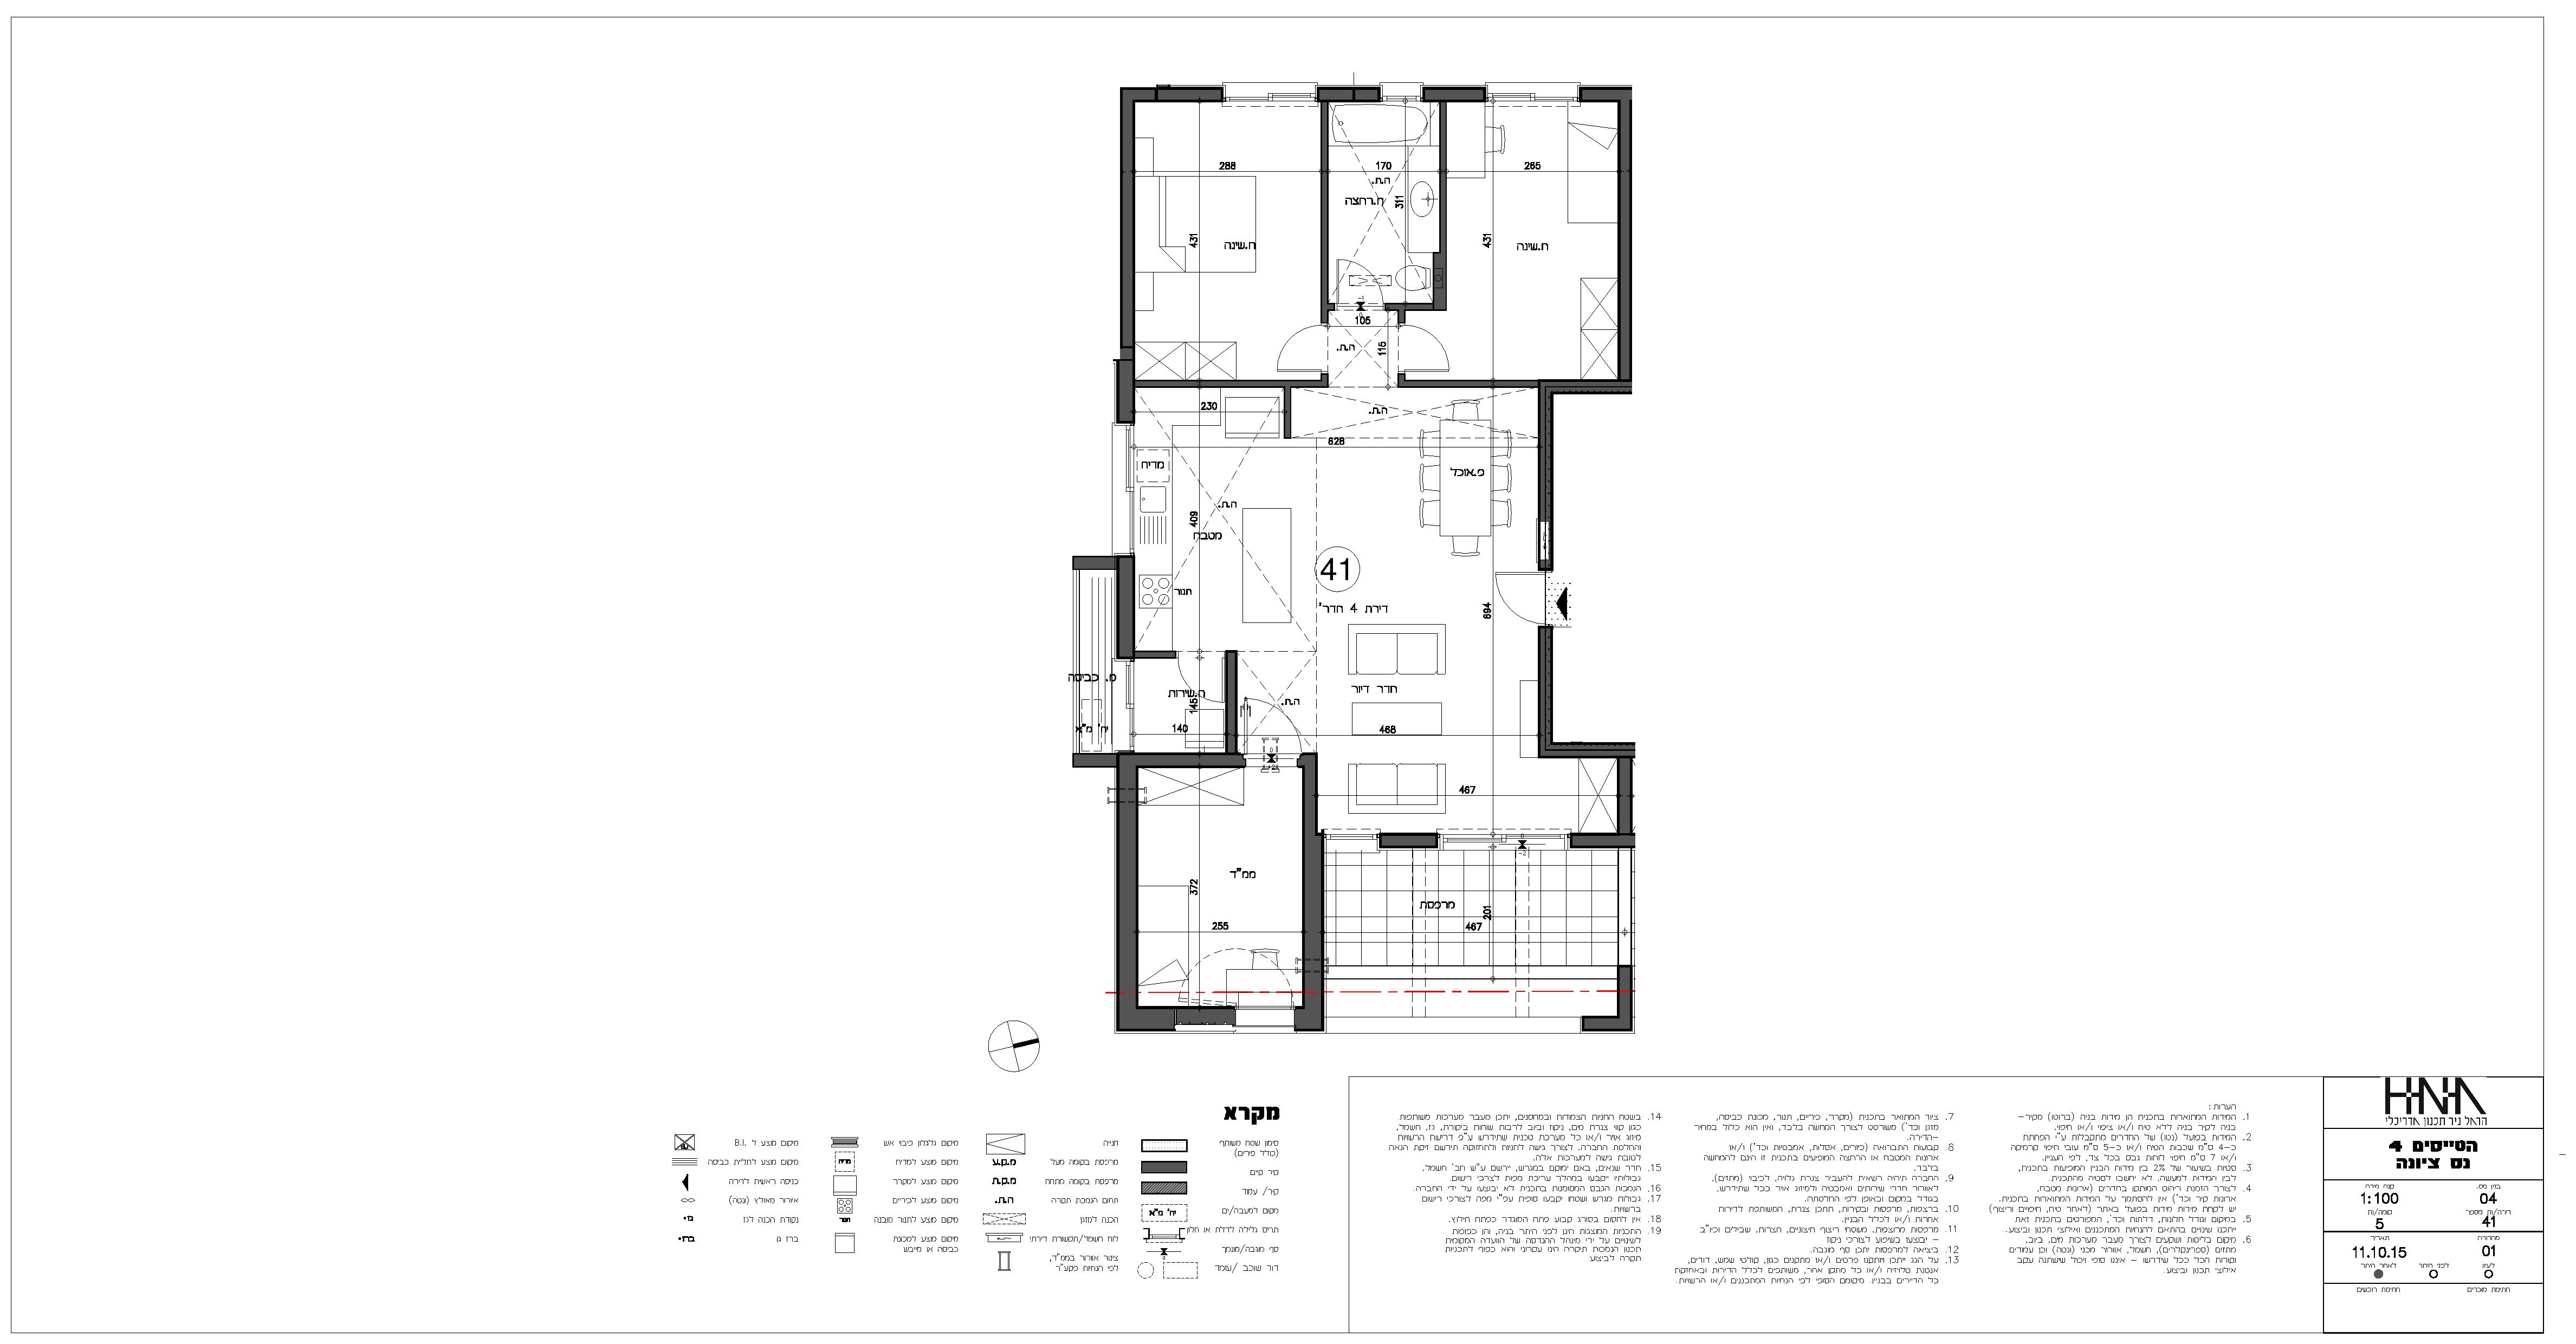door: (1242, 692, 1307, 753), (1491, 569, 1540, 630), (1176, 647, 1225, 707), (1273, 322, 1319, 378), (1407, 322, 1453, 376)
wall: (1118, 753, 1140, 1032), (1119, 89, 1135, 359), (1303, 833, 1324, 1031), (1620, 87, 1630, 392), (1399, 380, 1632, 388), (1135, 380, 1329, 388), (1119, 557, 1135, 658)
window: (1111, 424, 1135, 555), (1438, 833, 1571, 855), (1111, 658, 1133, 751), (1223, 82, 1317, 101), (1486, 83, 1579, 102), (1320, 833, 1378, 853), (1380, 83, 1423, 101)
